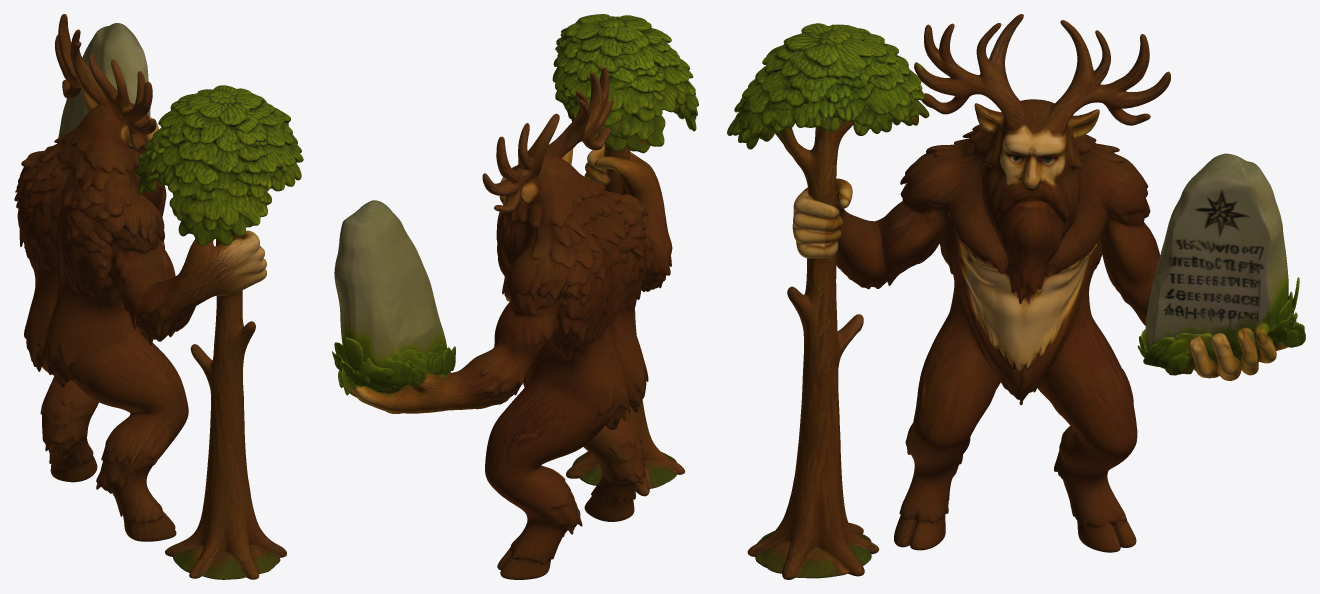
3 views of the same model, side by side, from view 1: azimuth 30°, elevation 25°; view 2: azimuth 150°, elevation 25°; view 3: azimuth 270°, elevation 25° (orthographic). The views are drawn at different scales.
Parts seen in each view (by area): view 1: tripo_node_f035972e-8fa2-4a04-b0bd-d5a7624393c4; view 2: tripo_node_f035972e-8fa2-4a04-b0bd-d5a7624393c4; view 3: tripo_node_f035972e-8fa2-4a04-b0bd-d5a7624393c4.
Part boxes in pixels (x1,y1,x2,y2): tripo_node_f035972e-8fa2-4a04-b0bd-d5a7624393c4: (14,14,303,579); tripo_node_f035972e-8fa2-4a04-b0bd-d5a7624393c4: (332,14,698,579); tripo_node_f035972e-8fa2-4a04-b0bd-d5a7624393c4: (727,14,1305,579).
Bounding box in the file's own units: 0.4412 × 1 × 0.9993.
Materials: 1 (1 with a texture image).
